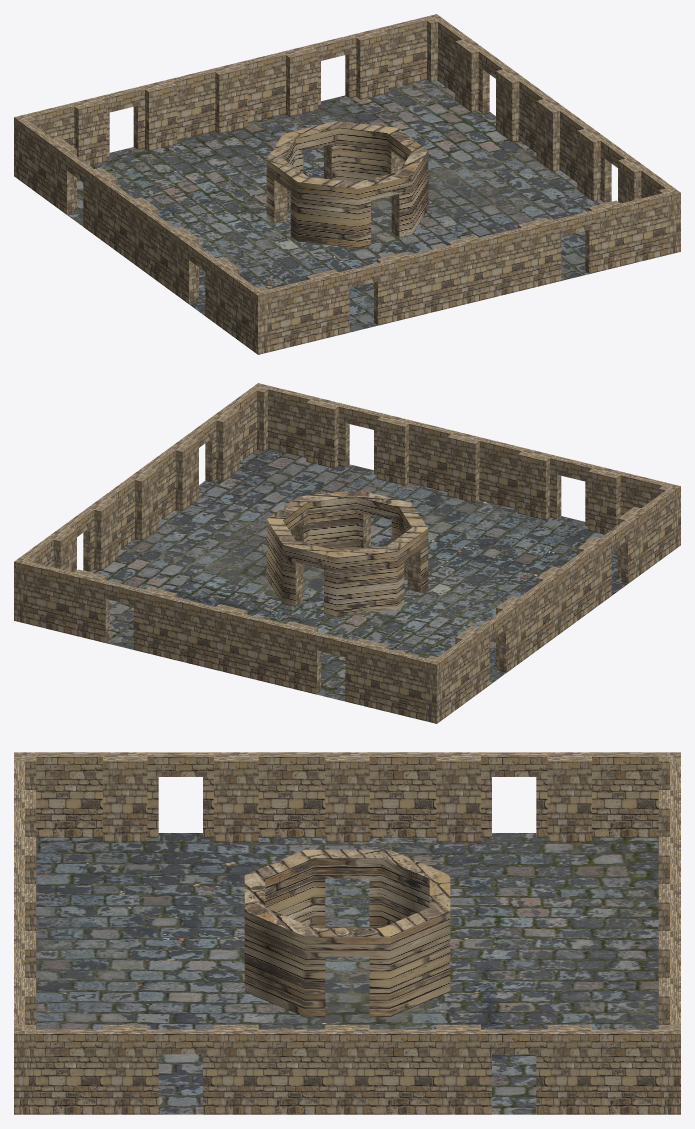
Rendered from 1_playerSpawn.fbx.
The picture shows the model from 3 angles, top to bottom: view 1: azimuth 30°, elevation 25°; view 2: azimuth 150°, elevation 25°; view 3: azimuth 270°, elevation 25°; orthographic projection. The views are drawn at different scales.
Parts seen in each view (by area): view 1: Tube_1, Plane; view 2: Tube_1, Plane; view 3: Tube_1, Plane.
Part boxes in pixels (x1,y1,x2,y2): Tube_1: (14,14,680,354); Plane: (67,79,611,332); Tube_1: (14,383,680,723); Plane: (83,448,627,701); Tube_1: (14,752,680,1114); Plane: (36,833,658,1114).
Size of the model in its own units: 60 by 8 by 60.
2 materials, 2 textured.
